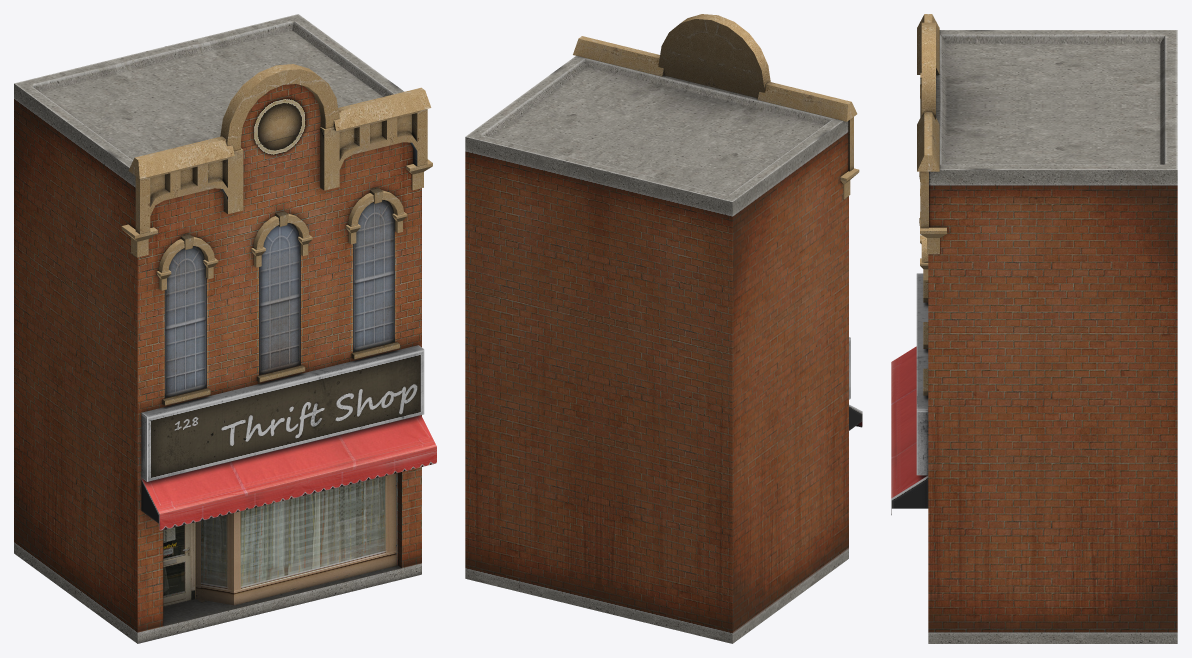
The model's file is thrift_shop.dae.
3 views of the same model, side by side, from view 1: azimuth 30°, elevation 25°; view 2: azimuth 150°, elevation 25°; view 3: azimuth 270°, elevation 25° (orthographic). The views are drawn at different scales.
Visible parts, largest first — view 1: Downtown_1; view 2: Downtown_1; view 3: Downtown_1.
Part boxes in pixels (x1,y1,x2,y2): Downtown_1: (14, 14, 436, 643); Downtown_1: (465, 14, 862, 643); Downtown_1: (891, 14, 1177, 643).
Size of the model in its own units: 298 by 246 by 516.
